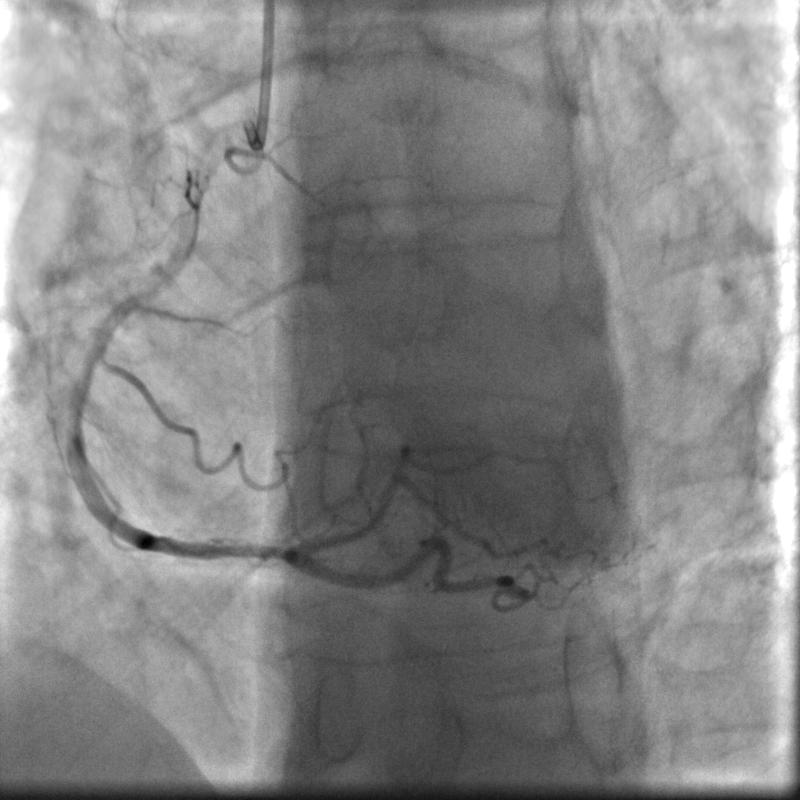Stenosis: (188, 528, 288, 575)
